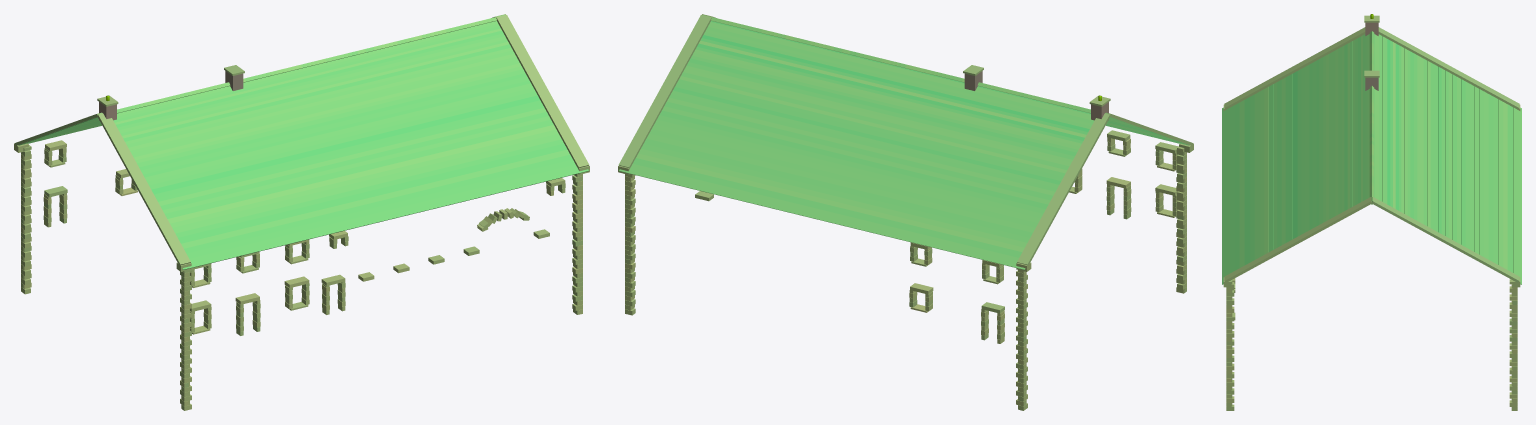
Rendered from SM_Bld_223_Stone.glb.
3 renders of one model, left to right at view 1: azimuth 30°, elevation 25°; view 2: azimuth 150°, elevation 25°; view 3: azimuth 270°, elevation 25°, orthographic. The views are drawn at different scales.
Parts seen in each view (by area): view 1: SM_Bld_223_Stone; view 2: SM_Bld_223_Stone; view 3: SM_Bld_223_Stone.
Part boxes in pixels (left/top/right/bottom): SM_Bld_223_Stone: left=14, top=14, right=589, bottom=410; SM_Bld_223_Stone: left=618, top=14, right=1193, bottom=410; SM_Bld_223_Stone: left=1222, top=14, right=1521, bottom=410.
Size of the model in its own units: 27.97 by 16.58 by 19.97.
